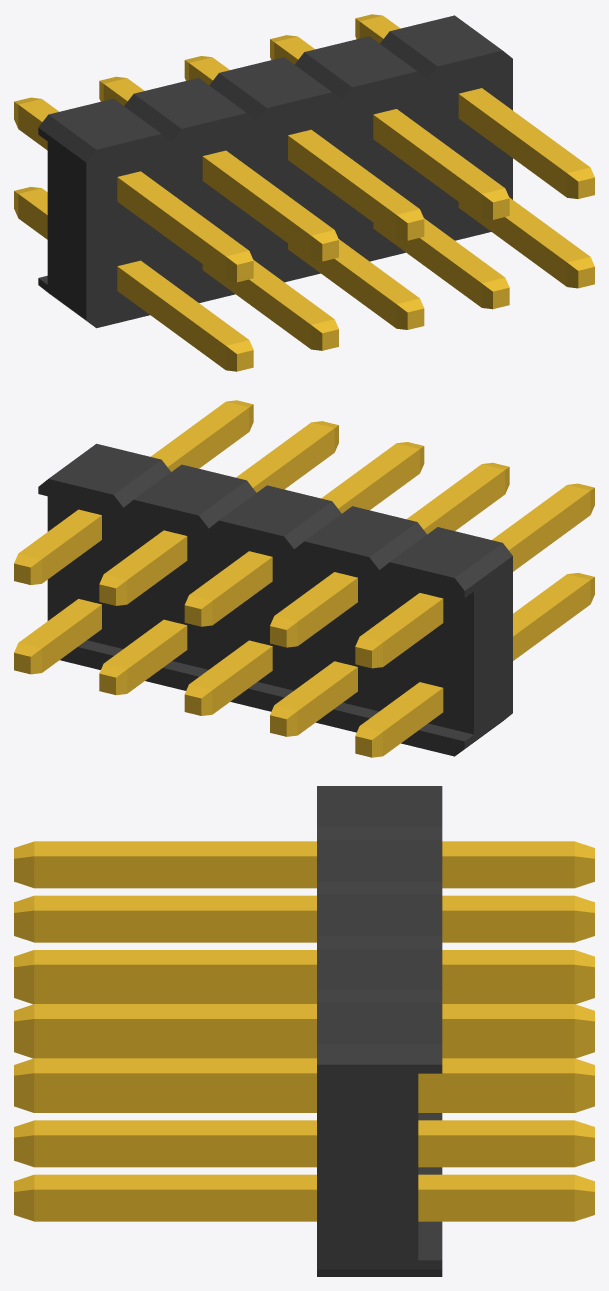
Rendered from CJT_A2541WV_2x5P.3dmodel.glb.
The picture shows the model from 3 angles, top to bottom: view 1: azimuth 30°, elevation 25°; view 2: azimuth 150°, elevation 25°; view 3: azimuth 270°, elevation 25°; orthographic projection. The views are drawn at different scales.
Visible parts, largest first — view 1: =>[0:1:1:1]; view 2: =>[0:1:1:1]; view 3: =>[0:1:1:1].
Boxes of the visible parts, x1=… form: =>[0:1:1:1]: x1=14, y1=14, x2=594, y2=371; =>[0:1:1:1]: x1=14, y1=400, x2=594, y2=757; =>[0:1:1:1]: x1=14, y1=786, x2=594, y2=1276.
Bounding box in the file's own units: 12.7 × 5.08 × 11.5.
